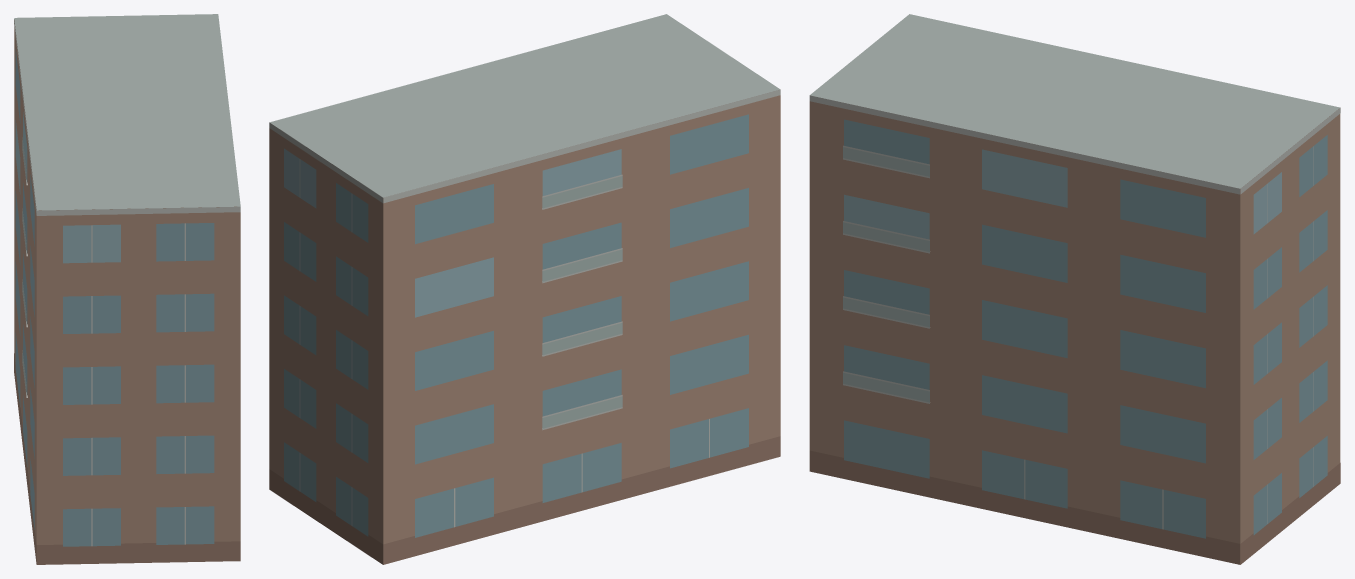
File: survey-upis-32510363.glb
3 views of the same model, side by side, from view 1: azimuth 30°, elevation 25°; view 2: azimuth 150°, elevation 25°; view 3: azimuth 270°, elevation 25° (orthographic). The views are drawn at different scales.
Parts seen in each view (by area): view 1: survey-upis-32510363.tmp; view 2: survey-upis-32510363.tmp; view 3: survey-upis-32510363.tmp.
Boxes of the visible parts, x1,y1,x2,y2 form: survey-upis-32510363.tmp: (14,14,240,564); survey-upis-32510363.tmp: (269,14,780,564); survey-upis-32510363.tmp: (809,14,1340,564).
Size of the model in its own units: 15.66 by 15.7 by 20.09.
